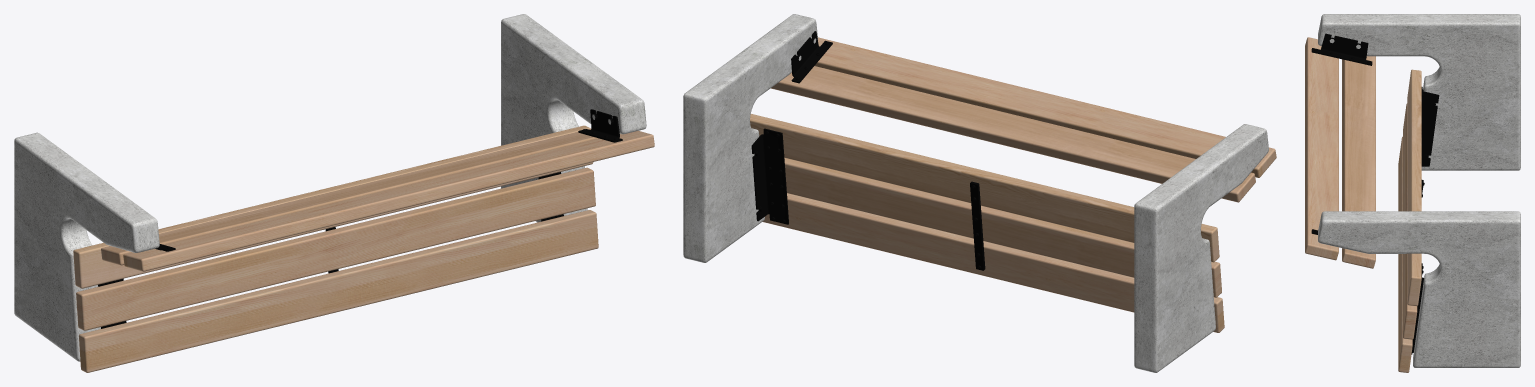
Rendered from Burri_Maro_mRL.obj.
3 renders of one model, left to right at view 1: azimuth 30°, elevation 25°; view 2: azimuth 150°, elevation 25°; view 3: azimuth 270°, elevation 25°, orthographic. The views are drawn at different scales.
Parts seen in each view (by area): view 1: Burri_Maro_mRL; view 2: Burri_Maro_mRL; view 3: Burri_Maro_mRL.
Part boxes in pixels (x1=…): Burri_Maro_mRL: x1=14, y1=14, x2=654, y2=372; Burri_Maro_mRL: x1=683, y1=14, x2=1276, y2=372; Burri_Maro_mRL: x1=1305, y1=14, x2=1520, y2=372.
Size of the model in its own units: 180 by 61.6 by 79.
Materials: 4 (2 with a texture image).
